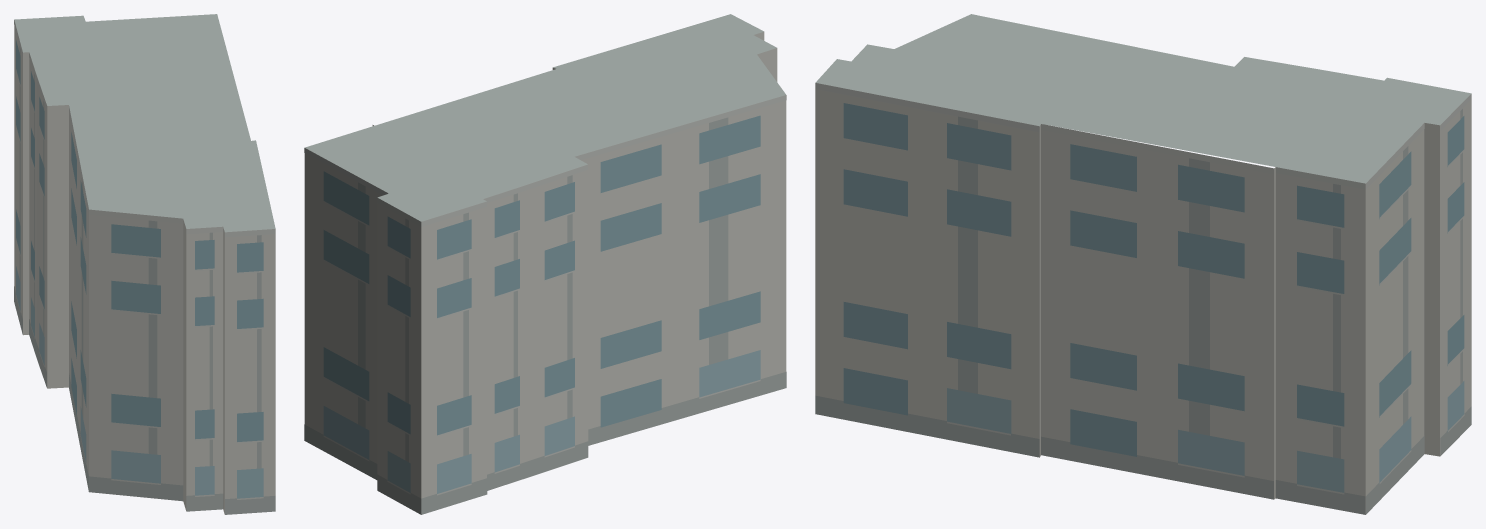
File: survey-upis-32887365.glb
3 views of the same model, side by side, from view 1: azimuth 30°, elevation 25°; view 2: azimuth 150°, elevation 25°; view 3: azimuth 270°, elevation 25° (orthographic). The views are drawn at different scales.
Visible parts, largest first — view 1: survey-upis-32887365.tmp; view 2: survey-upis-32887365.tmp; view 3: survey-upis-32887365.tmp.
Part boxes in pixels (bbox=[...]): survey-upis-32887365.tmp: bbox=[14, 14, 275, 514]; survey-upis-32887365.tmp: bbox=[304, 14, 786, 514]; survey-upis-32887365.tmp: bbox=[815, 14, 1471, 514].
Bounding box in the file's own units: 14.39 × 13.1 × 23.53.
